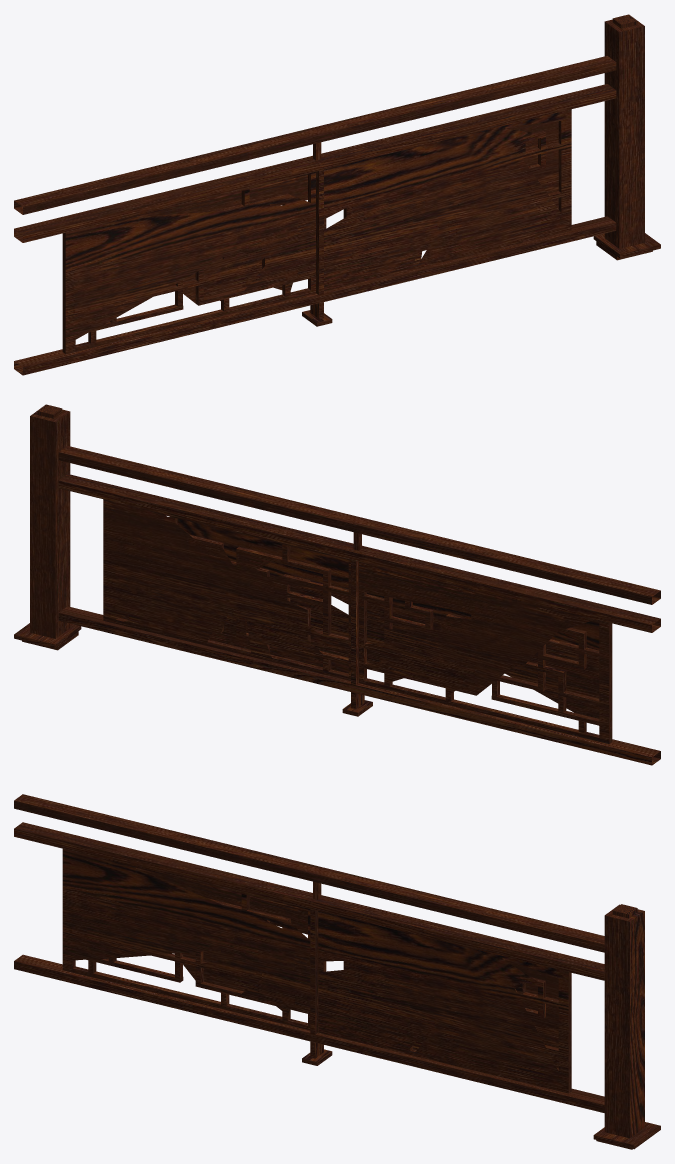
Rendered from fence.fbx.
3 views of the same model, one above another, from view 1: azimuth 30°, elevation 25°; view 2: azimuth 150°, elevation 25°; view 3: azimuth 330°, elevation 25° (orthographic).
Visible parts, largest first — view 1: fence; view 2: fence; view 3: fence.
Part boxes in pixels (x1,y1,x2,y2): fence: [14, 14, 660, 375]; fence: [14, 404, 660, 765]; fence: [14, 794, 660, 1149].
Size of the model in its own units: 408 by 142 by 29.83.
